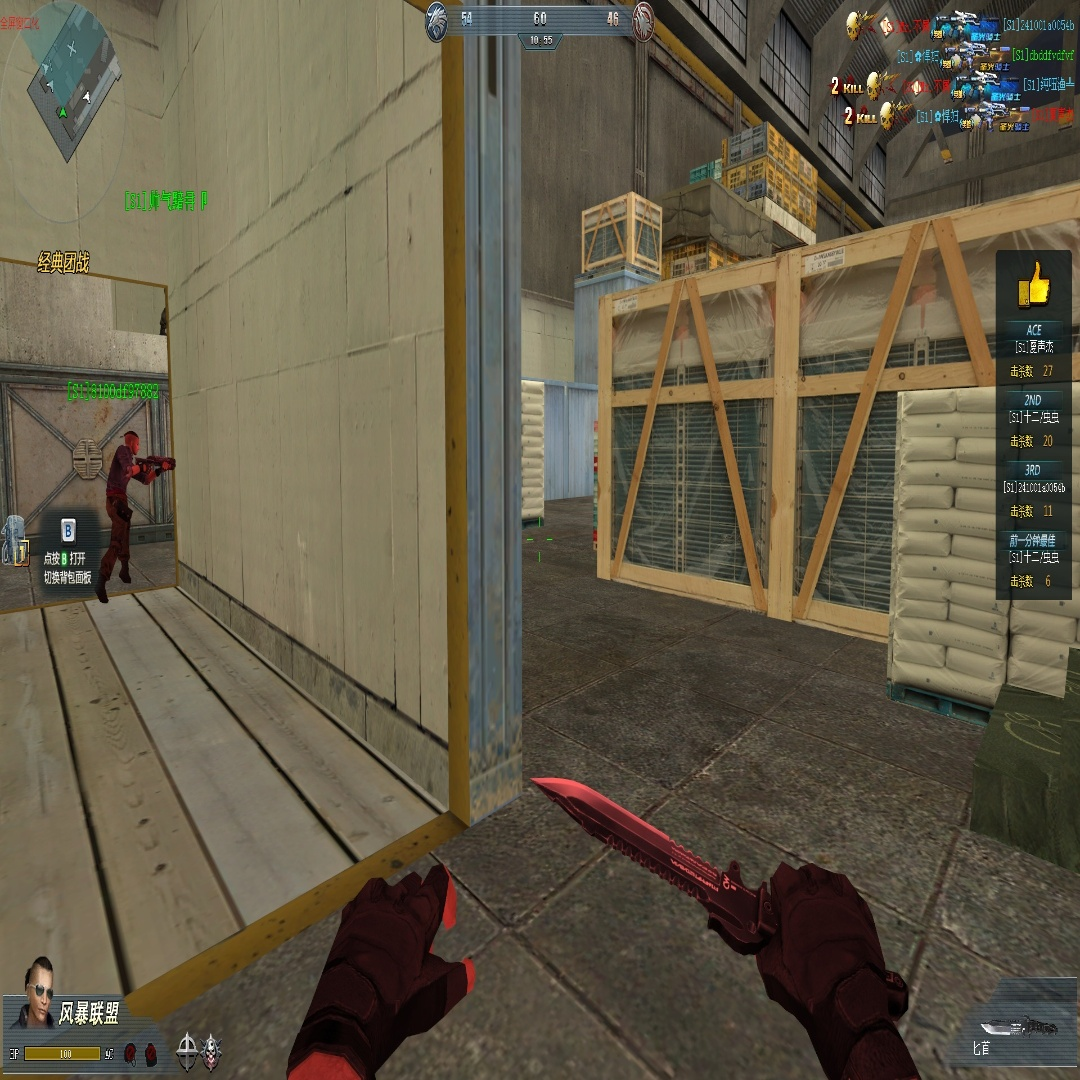t: (95, 430, 174, 604)
